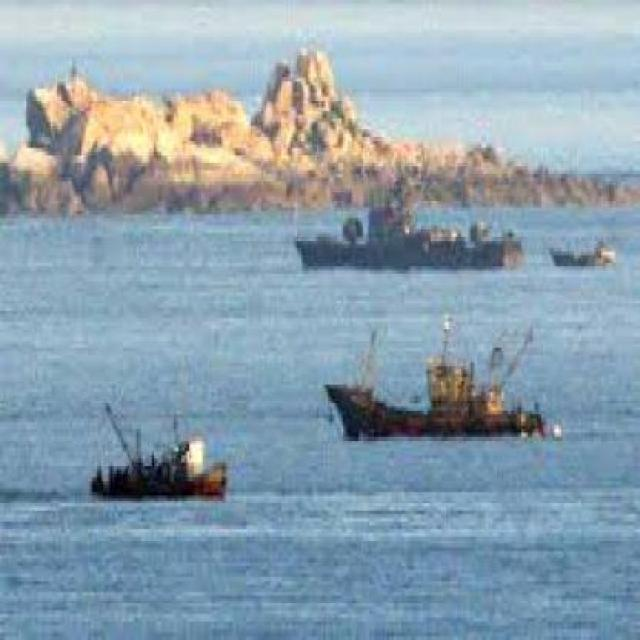fish-b: (307, 312, 576, 475), (85, 382, 239, 516)
